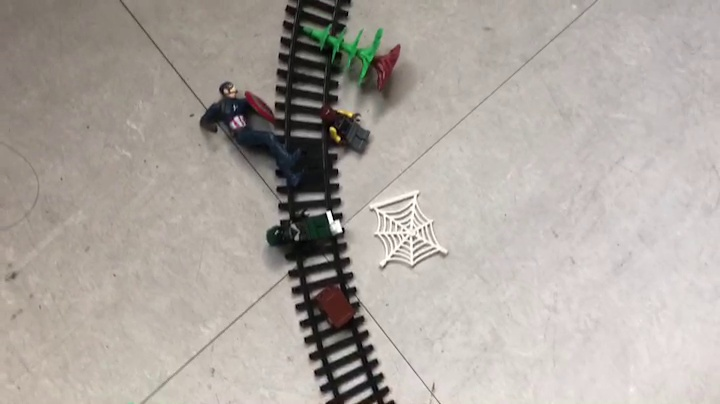box: (312, 284, 358, 329)
people: (201, 80, 311, 185), (266, 207, 345, 259), (317, 104, 374, 157)
tree: (301, 20, 401, 93)
web: (370, 191, 450, 274)
